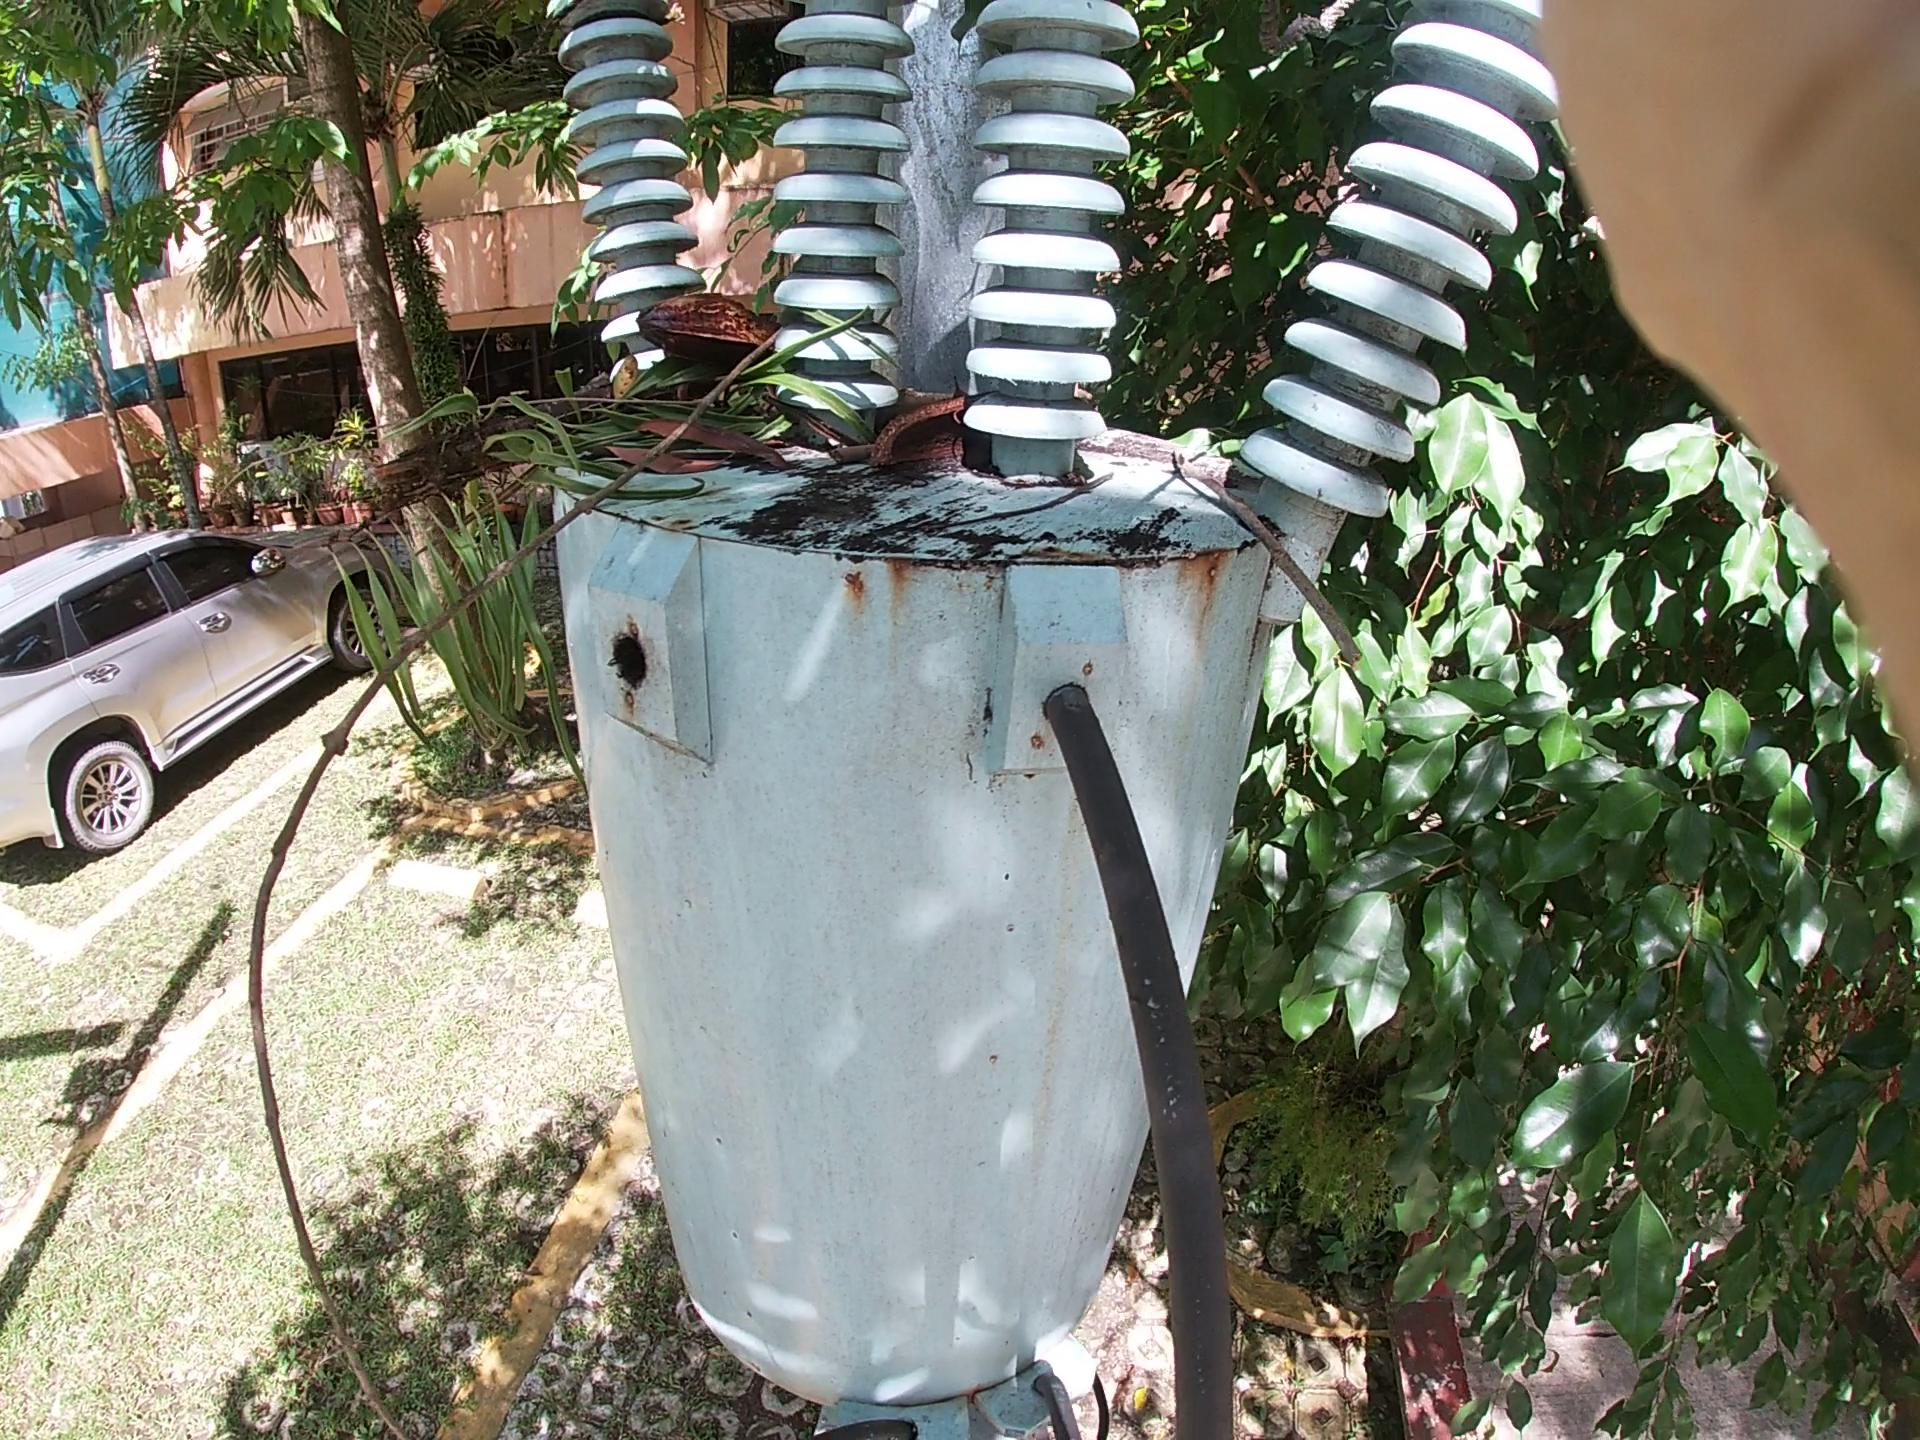branch with leaves: (286, 194, 939, 790)
leaf: (639, 413, 750, 576)
mahogany fruit: (655, 244, 760, 417), (881, 340, 986, 492)
tree branch: (200, 306, 765, 1128), (1172, 422, 1350, 649), (821, 414, 900, 514)
